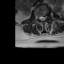CCS_normal: (41, 14, 43, 22)
LFS_normal: (45, 14, 47, 20)
LLS_normal: (43, 14, 45, 21)
RFS_normal: (37, 15, 39, 20)
RLS_normal: (39, 15, 41, 21)
